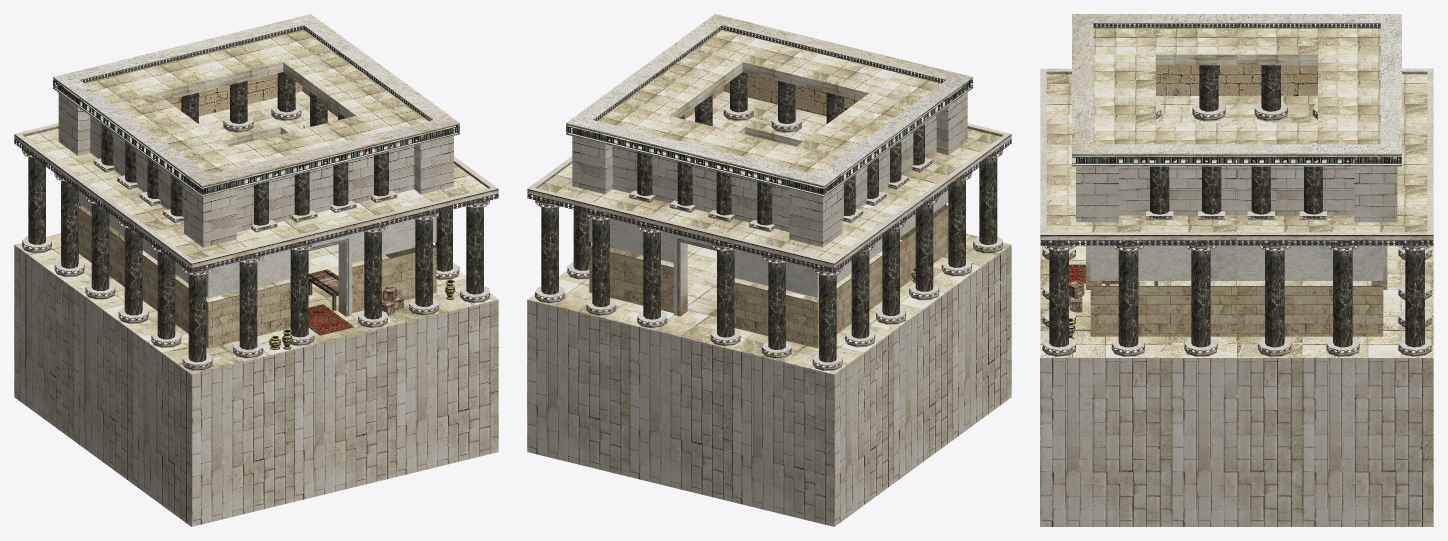
Rendered from kart_embassy.dae.
3 views of the same model, side by side, from view 1: azimuth 30°, elevation 25°; view 2: azimuth 150°, elevation 25°; view 3: azimuth 270°, elevation 25° (orthographic). The views are drawn at different scales.
Parts seen in each view (by area): view 1: CartStoa; view 2: CartStoa; view 3: CartStoa.
Boxes of the visible parts, x1,y1,x2,y2 form: CartStoa: (14,14,498,526); CartStoa: (527,14,1011,526); CartStoa: (1040,14,1433,526).
Size of the model in its own units: 25.57 by 25.57 by 25.82.
